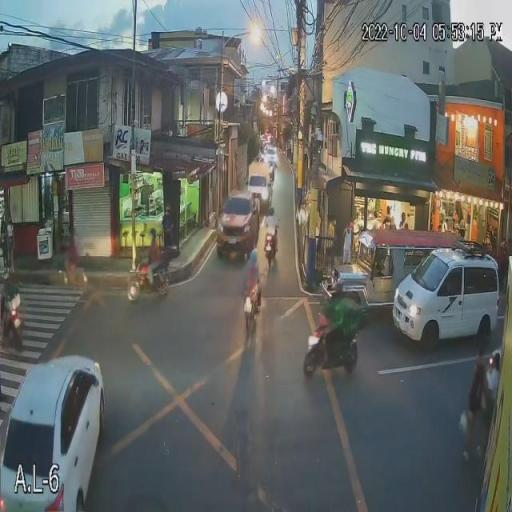helmet: (328, 282, 347, 307), (146, 228, 160, 242), (248, 250, 259, 267), (268, 206, 275, 216)
motorcycle: (306, 315, 361, 375), (126, 258, 174, 302), (240, 279, 264, 327), (263, 233, 280, 267)
rider: (325, 283, 344, 363), (144, 229, 164, 292), (244, 249, 261, 306), (266, 208, 277, 237)
